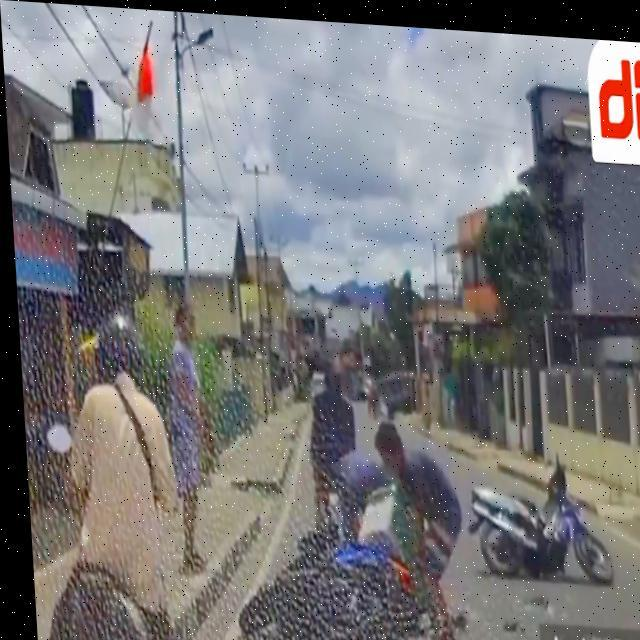multiple_accident: (263, 421, 617, 640)
